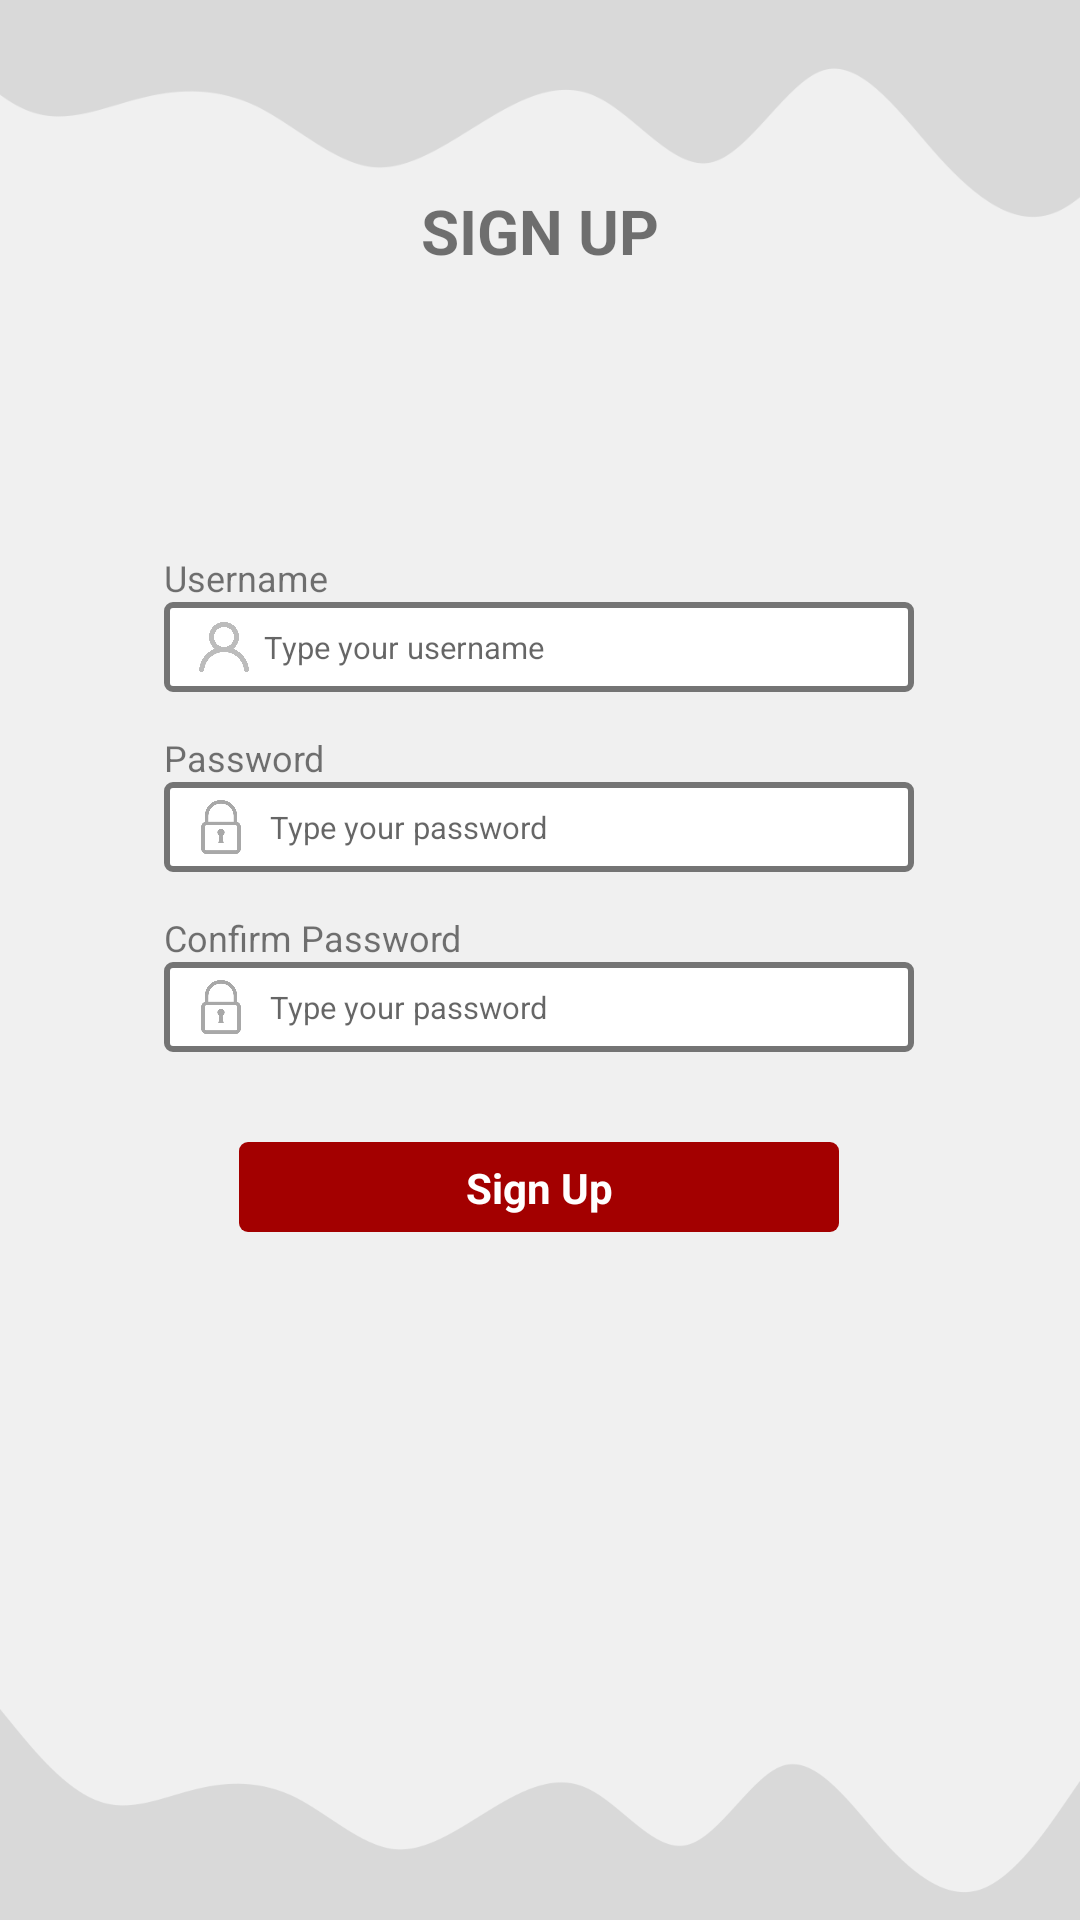

Named icons in this screenshot (1080*1920) and their centers, point (x, y):
account: point (224, 647)
lock: point (221, 827), point (221, 1007)
